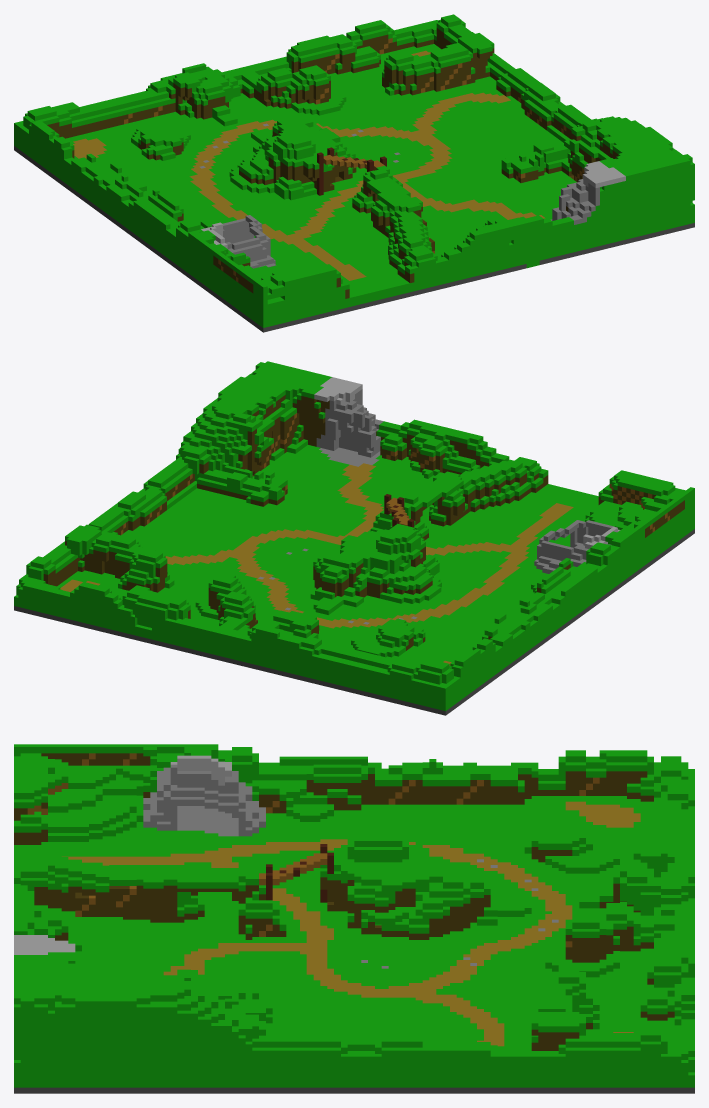
File: vlad alex - harta_0.1.obj
The picture shows the model from 3 angles, top to bottom: view 1: azimuth 30°, elevation 25°; view 2: azimuth 150°, elevation 25°; view 3: azimuth 270°, elevation 25°; orthographic projection. The views are drawn at different scales.
Visible parts, largest first — view 1: vlad alex - harta_0.1; view 2: vlad alex - harta_0.1; view 3: vlad alex - harta_0.1.
Boxes of the visible parts, x1,y1,x2,y2 form: vlad alex - harta_0.1: [14, 14, 694, 332]; vlad alex - harta_0.1: [14, 361, 694, 715]; vlad alex - harta_0.1: [14, 744, 694, 1093].
Bounding box in the file's own units: 100 × 15 × 100.
Materials: 1 (1 with a texture image).
